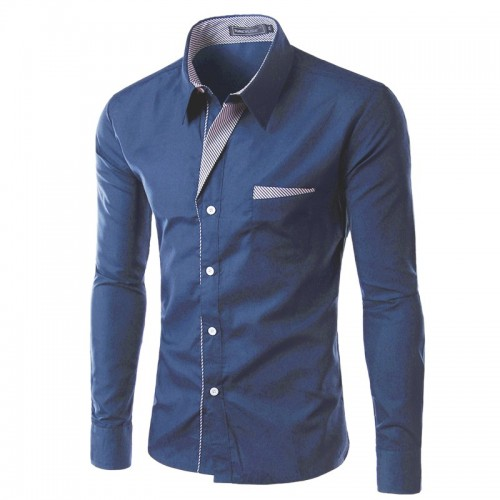Shirt: (82, 11, 459, 496)
